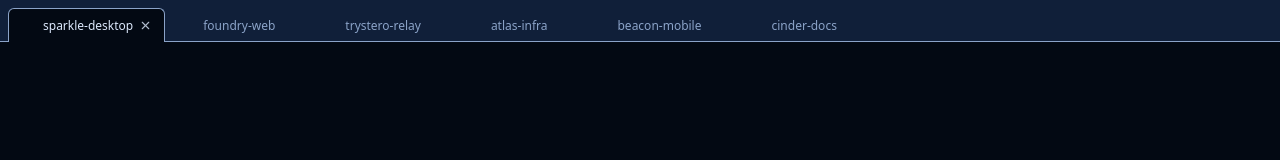
Test case: hovering a crowded tab reveals its full name › collapses once a drag starts, so the tab being dragged is its own size
Hover over the element with test id "tab-foundry" at (239, 26), box [203,17,275,34]
Wait 120 ms
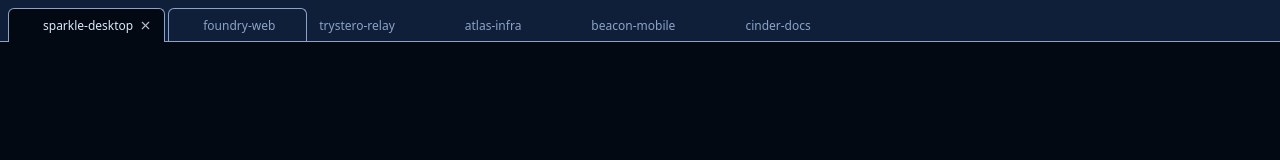
Press the mouse on the element with test id "tab-foundry" at (225, 25), box [168,8,281,42]
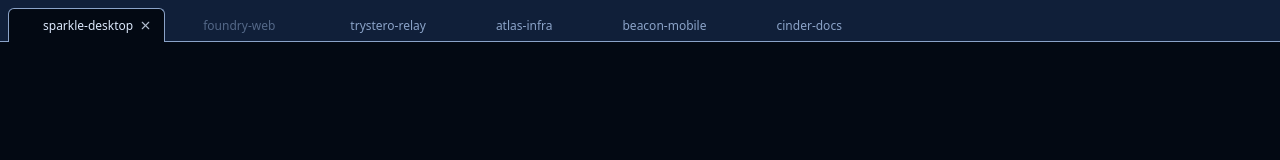
Now the element with test id "tab-foundry" does not have attribute data-expanded, box [203,17,275,34]
